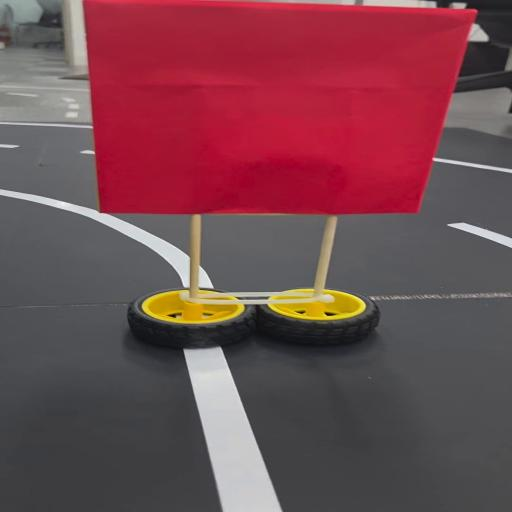Sign_A: (85, 2, 476, 345)
